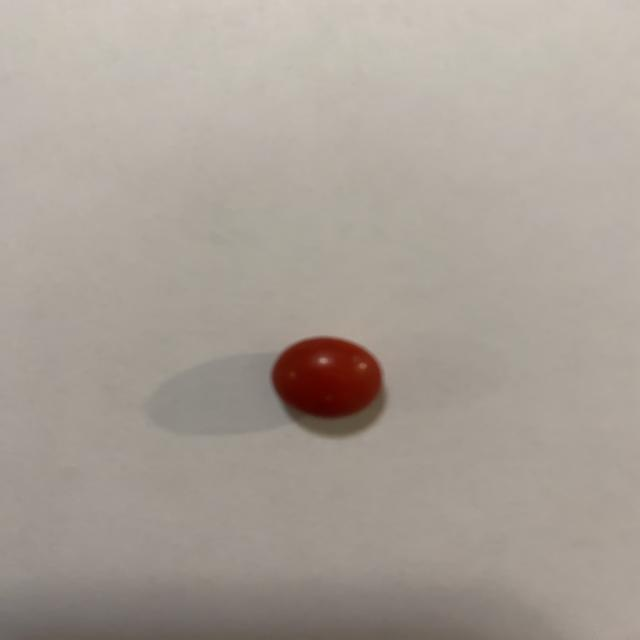smartie: (272, 337, 381, 418)
